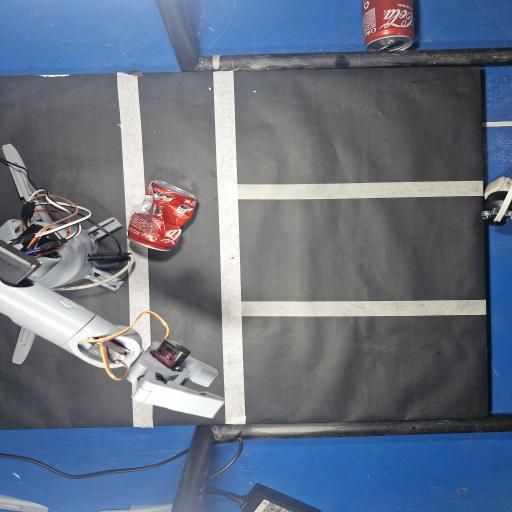lata_defectuoso: (128, 180, 196, 250)
